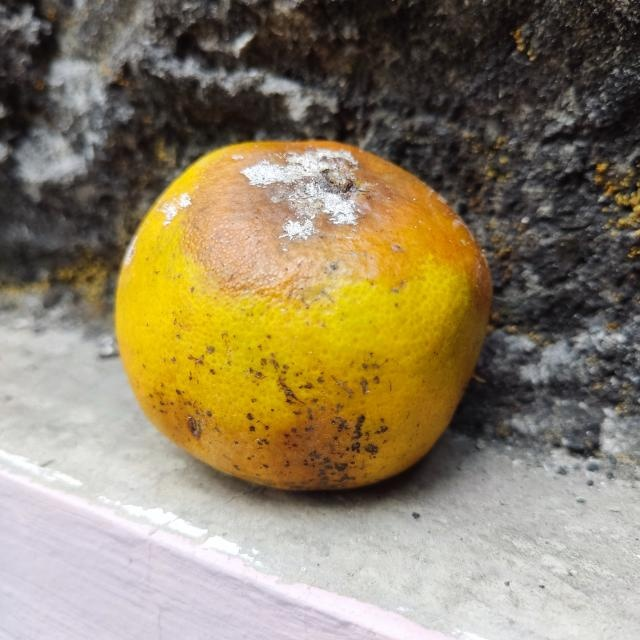agrume: (112, 136, 495, 493)
